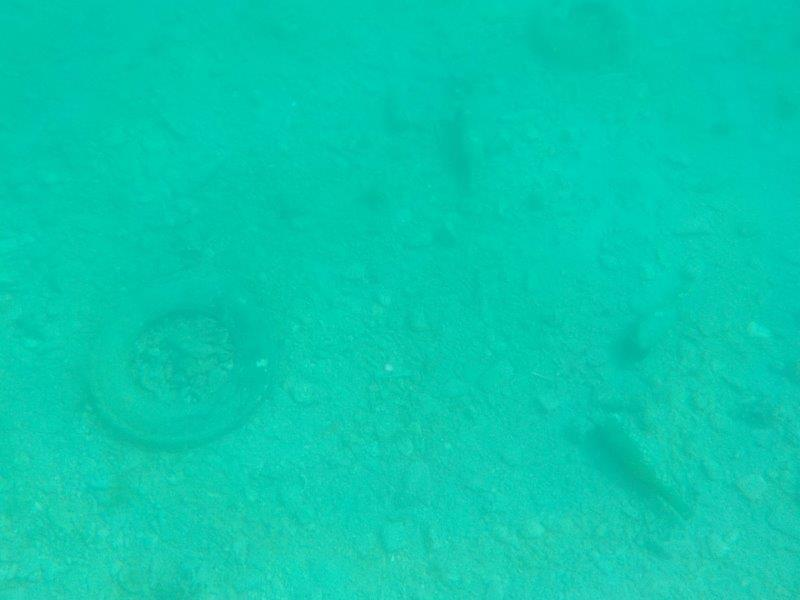bottle: (592, 408, 705, 526), (444, 98, 495, 200)
tire: (80, 270, 285, 450)
